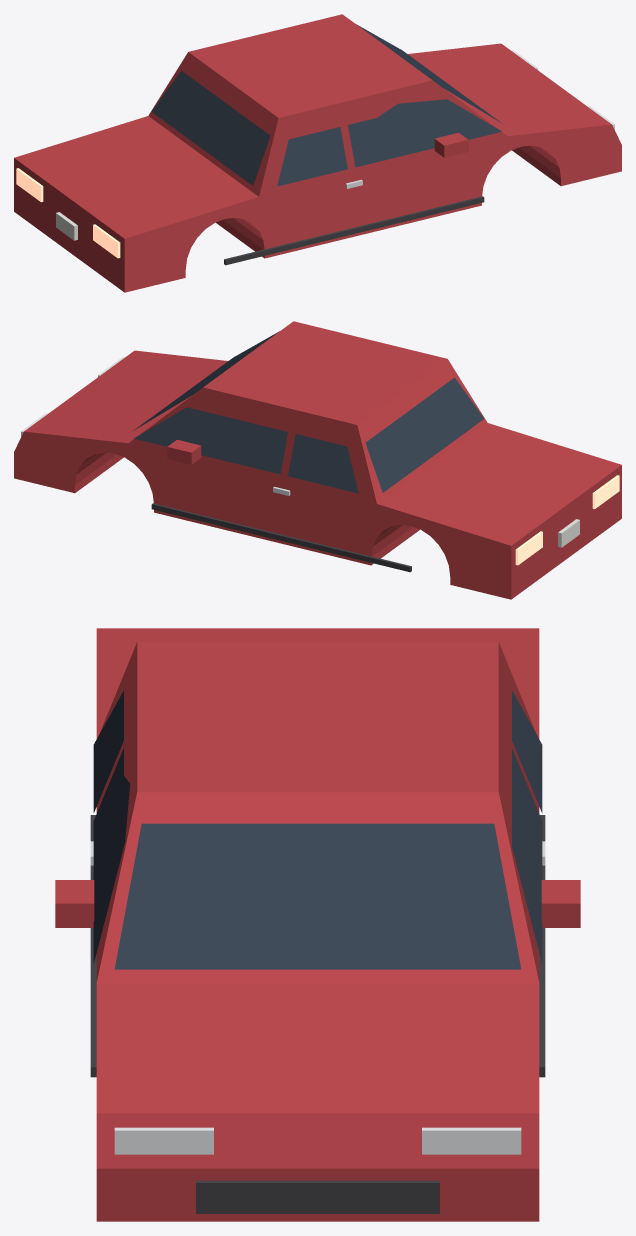
File: SM_Veh_Sedan.fbx
3 views of the same model, one above another, from view 1: azimuth 30°, elevation 25°; view 2: azimuth 150°, elevation 25°; view 3: azimuth 270°, elevation 25° (orthographic). The views are drawn at different scales.
Visible parts, largest first — view 1: SM_Veh_Sedan; view 2: SM_Veh_Sedan; view 3: SM_Veh_Sedan.
Boxes of the visible parts, <box> form: SM_Veh_Sedan: <box>14,14,621,292</box>; SM_Veh_Sedan: <box>14,321,621,599</box>; SM_Veh_Sedan: <box>55,628,580,1221</box>.
Size of the model in its own units: 476 by 215 by 115.
